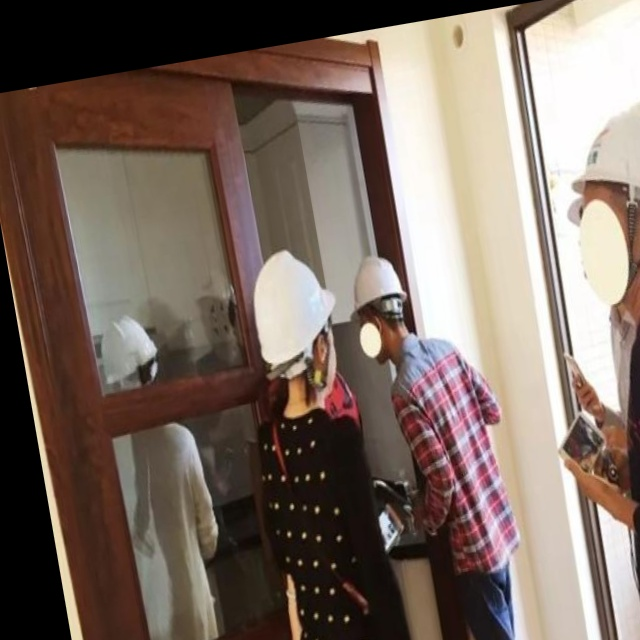Con_Casco: (244, 246, 350, 407), (94, 312, 164, 392)
